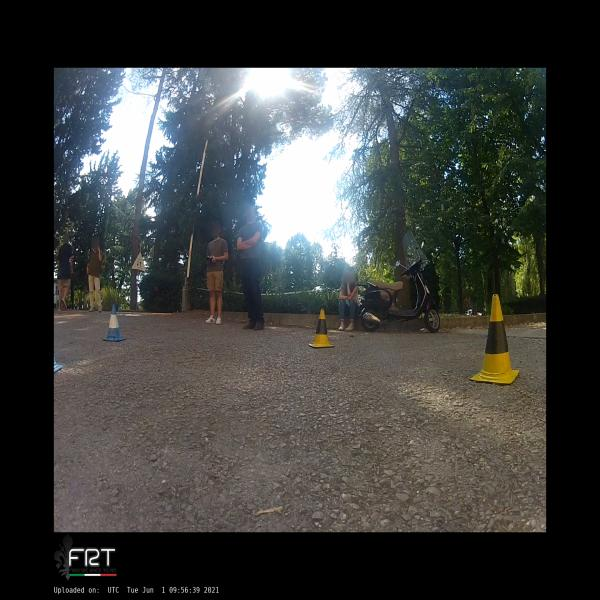blue_cone: (101, 303, 126, 341)
yellow_cone: (469, 294, 519, 384), (308, 308, 335, 348)
